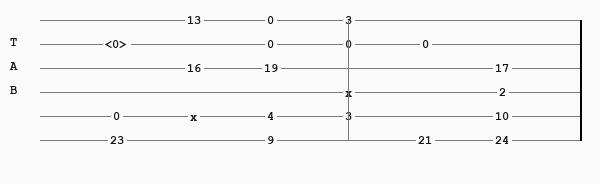0: (113, 110, 124, 122), (267, 38, 278, 50), (267, 14, 278, 26), (345, 38, 356, 50), (422, 38, 433, 50)
10: (495, 110, 513, 122)
13: (187, 14, 205, 26)
16: (187, 62, 205, 74)
17: (495, 62, 513, 74)
19: (264, 62, 282, 74)
2: (499, 86, 510, 98)
21: (418, 134, 436, 146)
23: (110, 134, 128, 146)
24: (495, 134, 513, 146)
3: (345, 110, 356, 122), (345, 14, 356, 26)
4: (267, 110, 278, 122)
9: (267, 134, 278, 146)
harmonic: (105, 38, 132, 50)
x: (190, 111, 201, 121), (345, 87, 356, 97)
